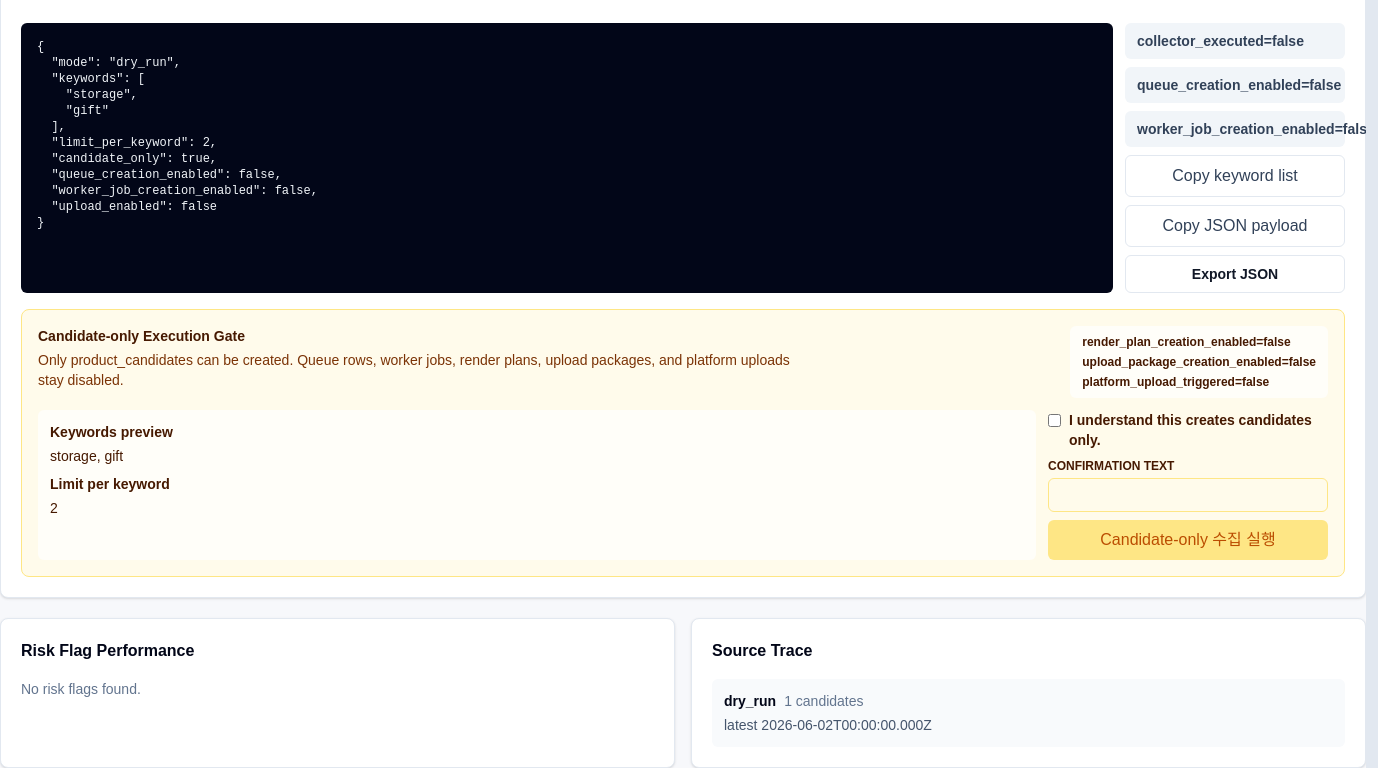
candidate-only collector execution gate › renders a confirmation-gated execution UI without queue, worker, or upload actions
This screenshot has width=1378, height=768.
(page scrolled)
Expected: the heading "Candidate-only Execution Gate" is shown, [38,328,245,344]
Expected: the text "Only product_candidates can be created. Queue rows, worker jobs, render plans, upload packages, and platform uploads sta" is shown, [38,352,790,388]
Click the checkbox labelled "I understand this creates candidates only." at (1054, 420), box [1048,414,1061,427]
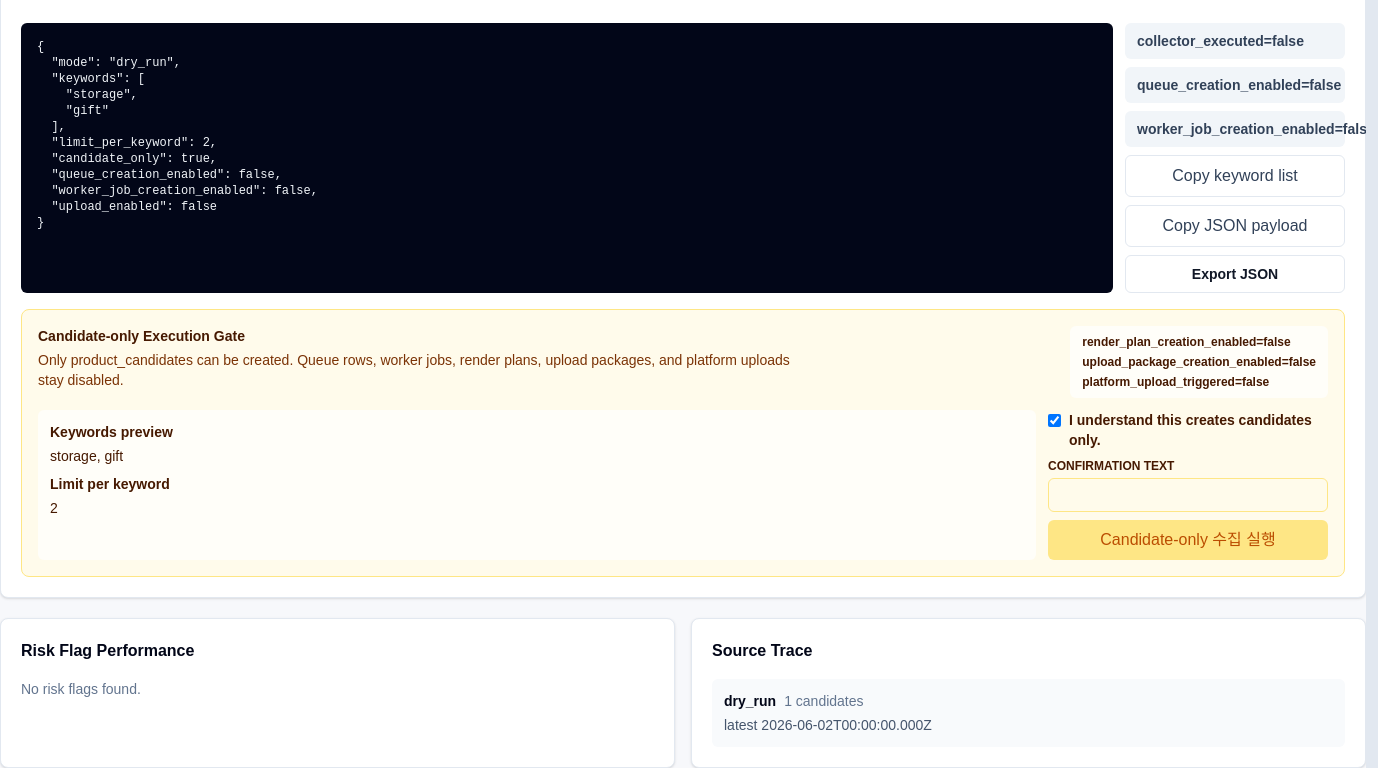
Type "RUN" into the field labelled "Confirmation text" at (1188, 495), box [1048,478,1328,512]
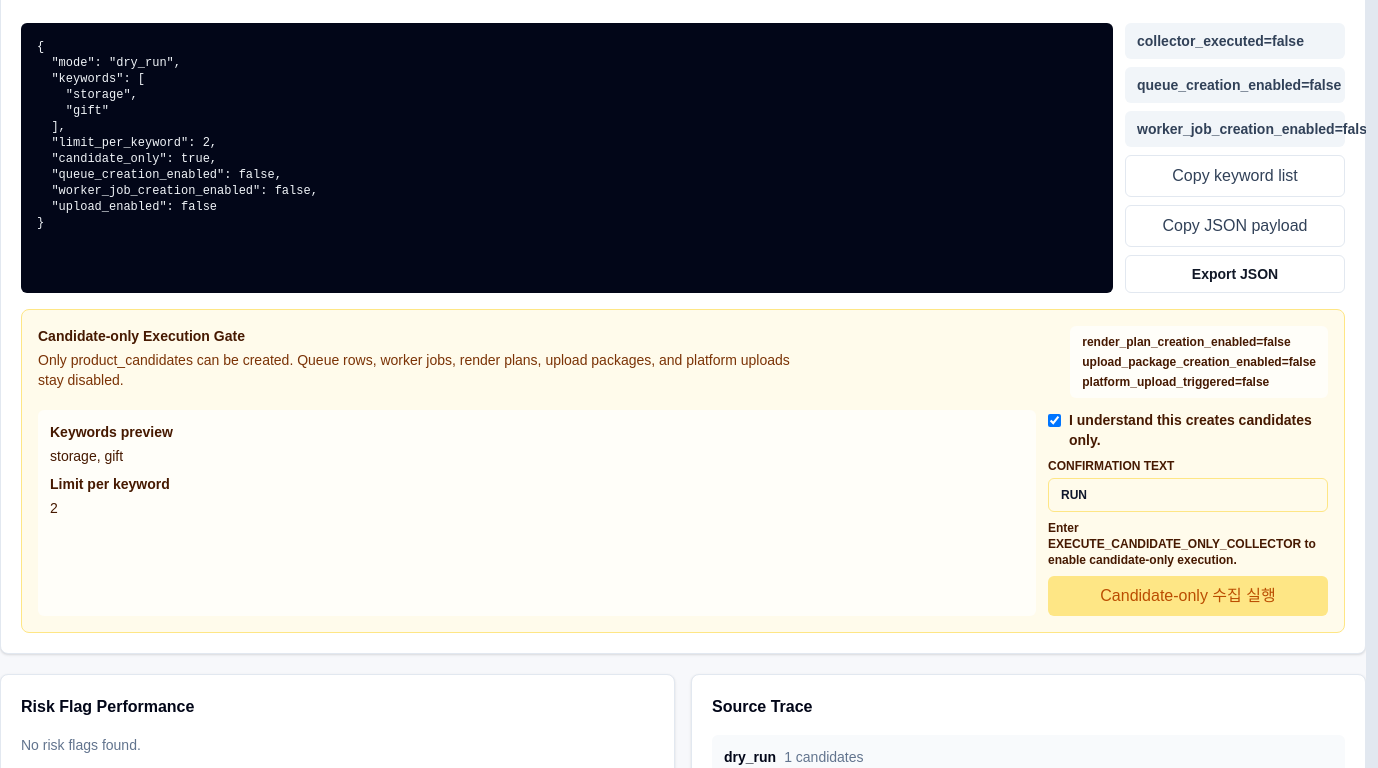
Expected: the button "Candidate-only 수집 실행" is disabled, [1048,576,1328,616]
Expected: the text "Enter EXECUTE_CANDIDATE_ONLY_COLLECTOR to enable candidate-only execution." is shown, [1048,520,1328,568]
Replace the text in the field labelled "Confirmation text" with "EXECUTE_CANDIDATE_ONLY_COLLECTOR" at (1188, 495), box [1048,478,1328,512]
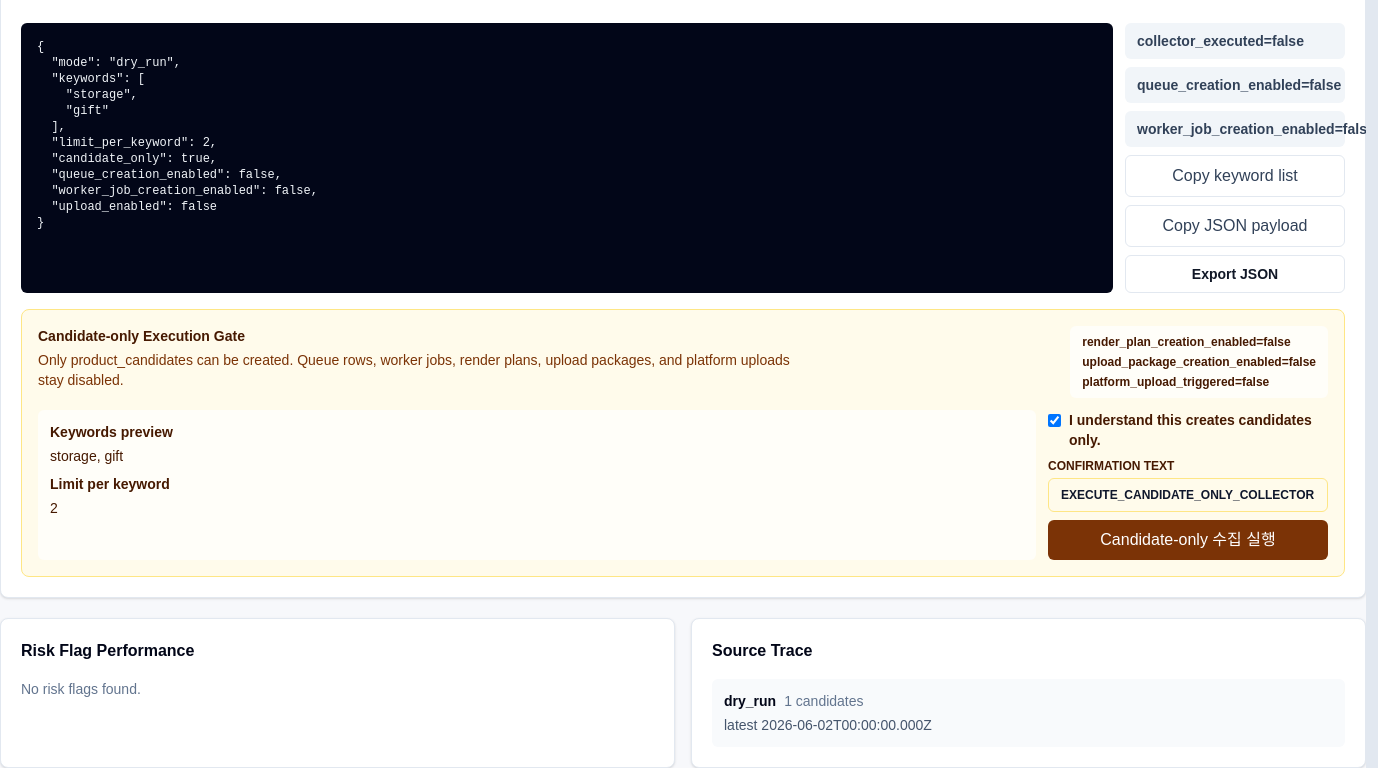
Expected: the button "Candidate-only 수집 실행" is enabled, [1048,520,1328,560]
